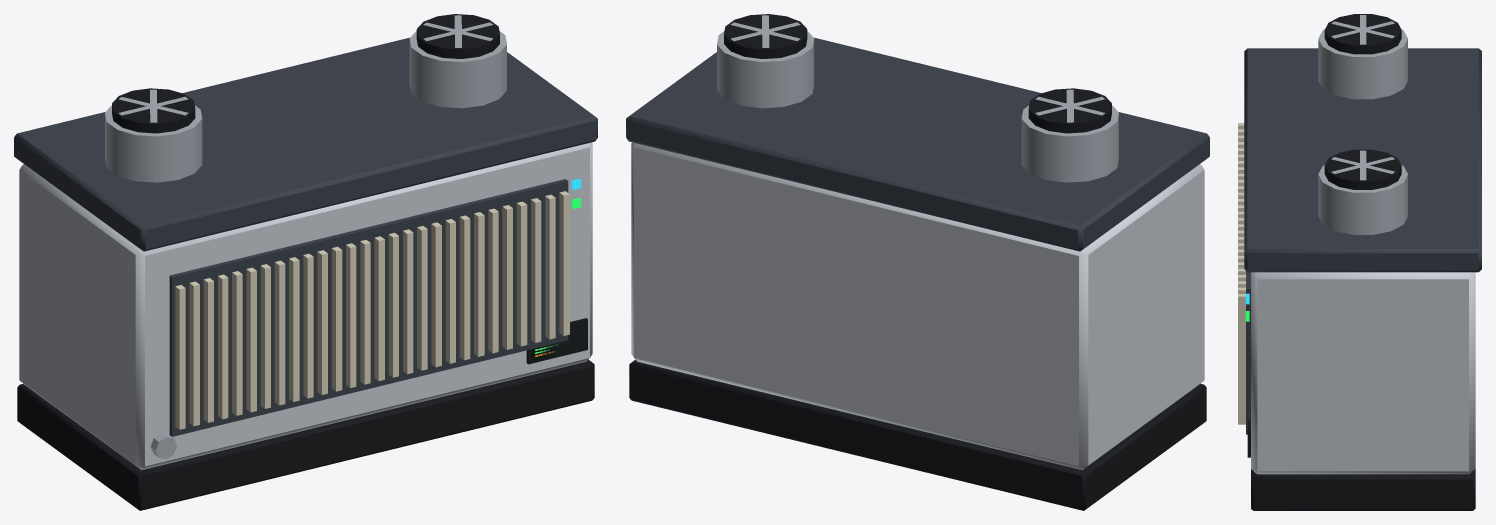
File: scrubber_hepa_particulate_unit.glb
3 renders of one model, left to right at view 1: azimuth 30°, elevation 25°; view 2: azimuth 150°, elevation 25°; view 3: azimuth 270°, elevation 25°, orthographic. The views are drawn at different scales.
Visible parts, largest first — view 1: scrubber_hepa_particulate_unit; view 2: scrubber_hepa_particulate_unit; view 3: scrubber_hepa_particulate_unit.
Boxes of the visible parts, x1,y1,x2,y2 form: scrubber_hepa_particulate_unit: [14, 14, 597, 510]; scrubber_hepa_particulate_unit: [626, 14, 1209, 510]; scrubber_hepa_particulate_unit: [1238, 14, 1481, 510].
Size of the model in its own units: 1.5 by 1.08 by 0.76.
Materials: 8 (1 with a texture image).
